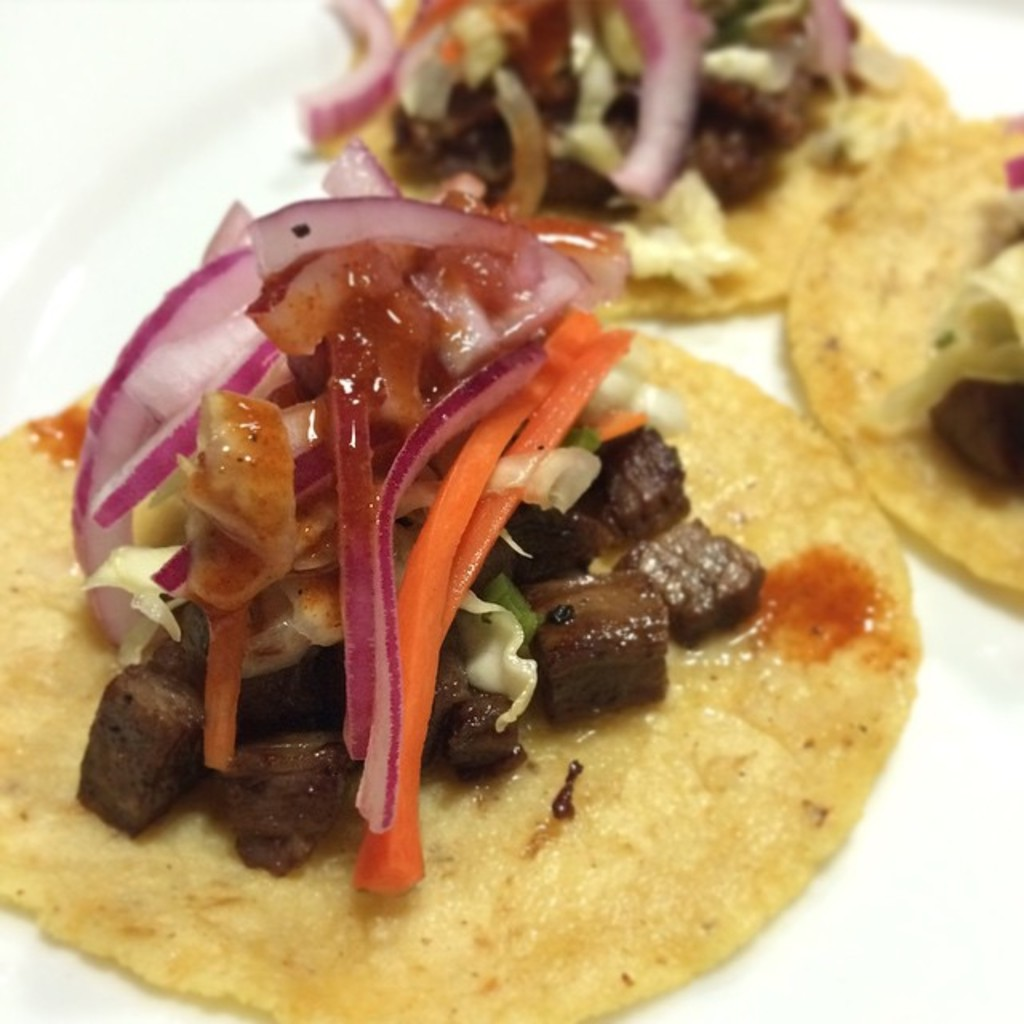taco: (0, 139, 925, 1022), (323, 0, 970, 333), (331, 0, 950, 333), (778, 104, 1022, 603), (776, 123, 1021, 595)
